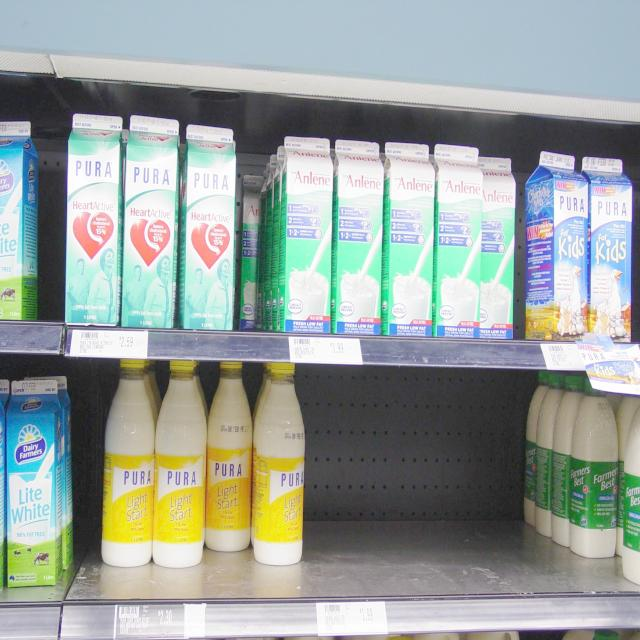empty_space: (313, 388, 529, 582)
